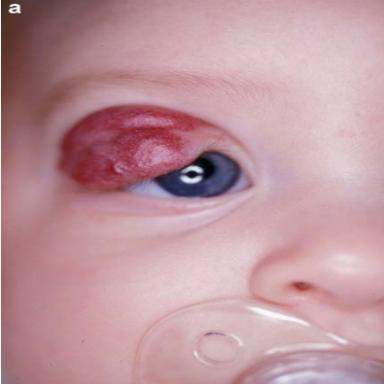Hemangiome: (60, 105, 206, 189)
